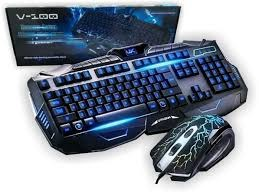mouse: (151, 119, 232, 179)
